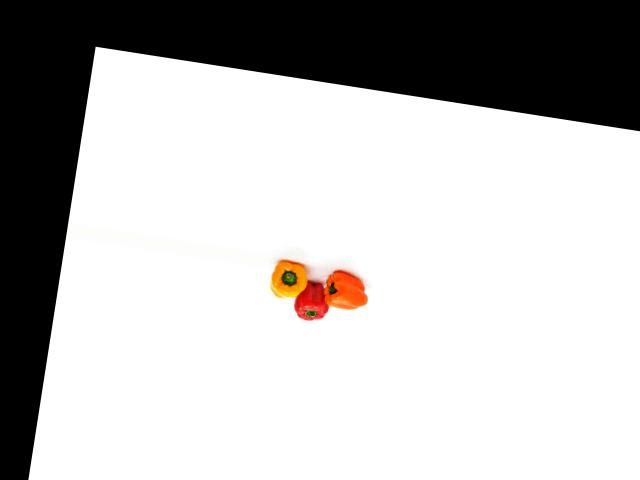bell_pepper: (265, 257, 314, 303)
